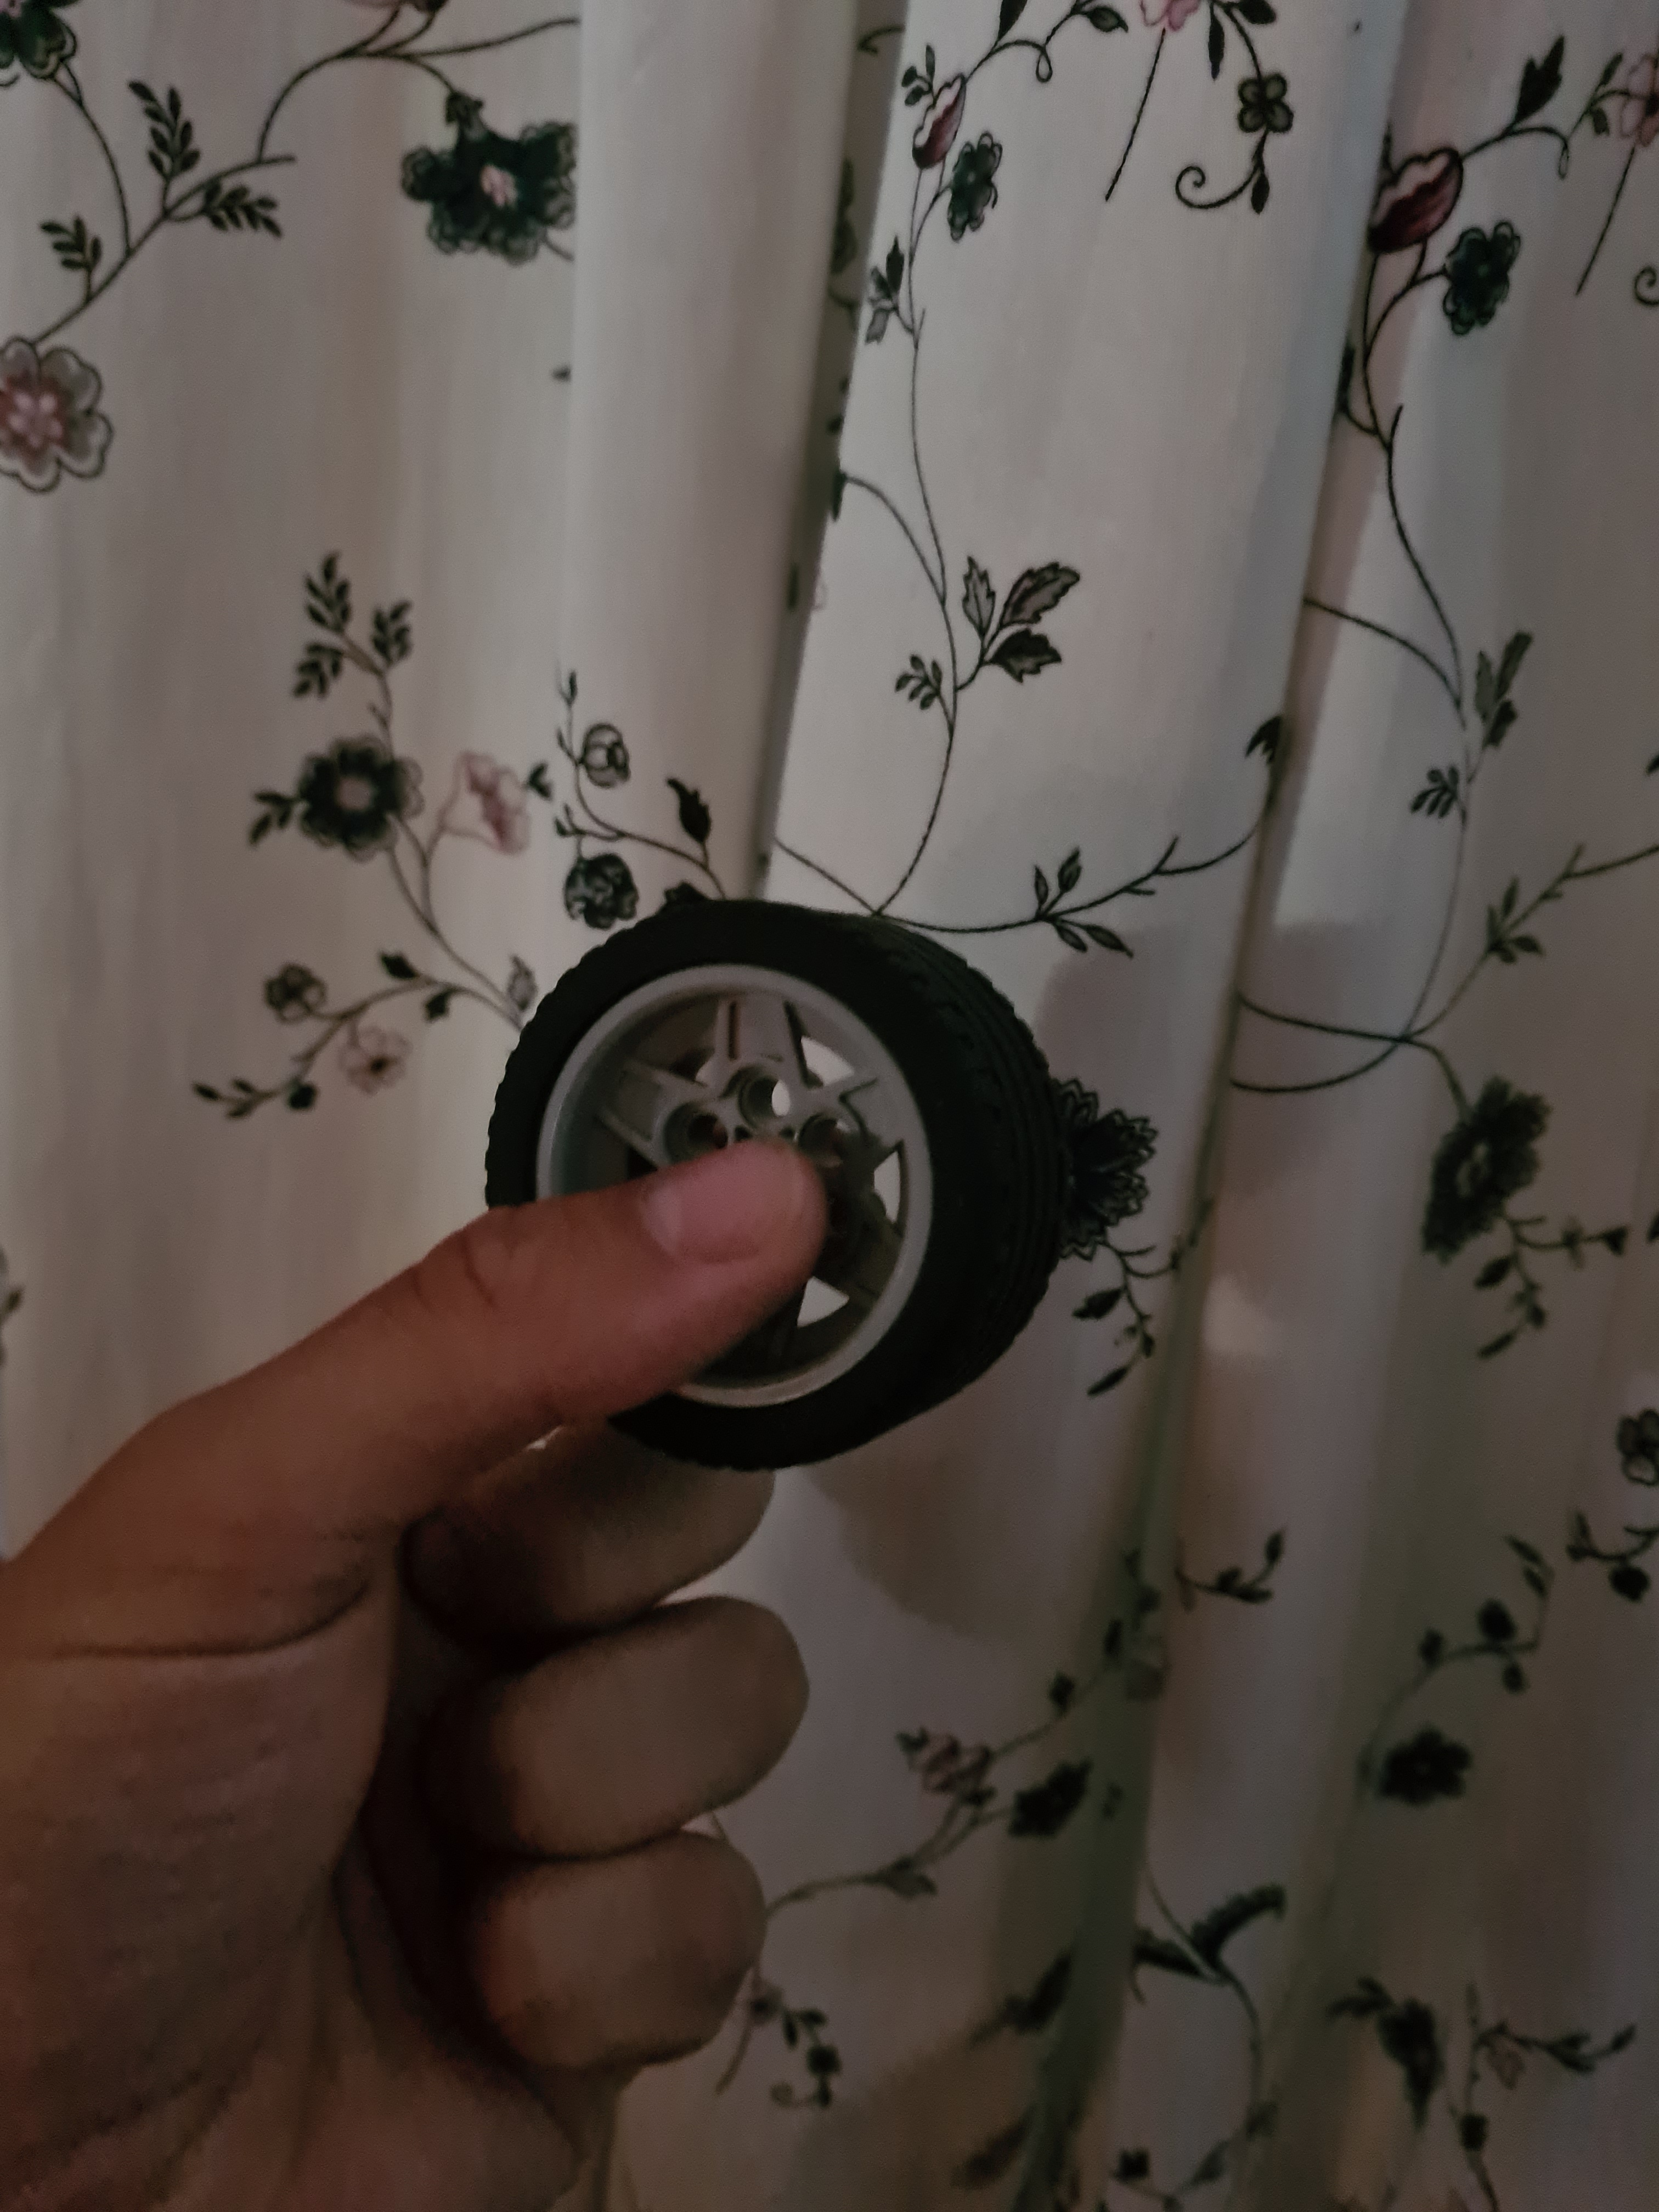Rad: (484, 895, 1072, 1480)
